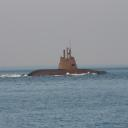submarine: (23, 47, 109, 77)
